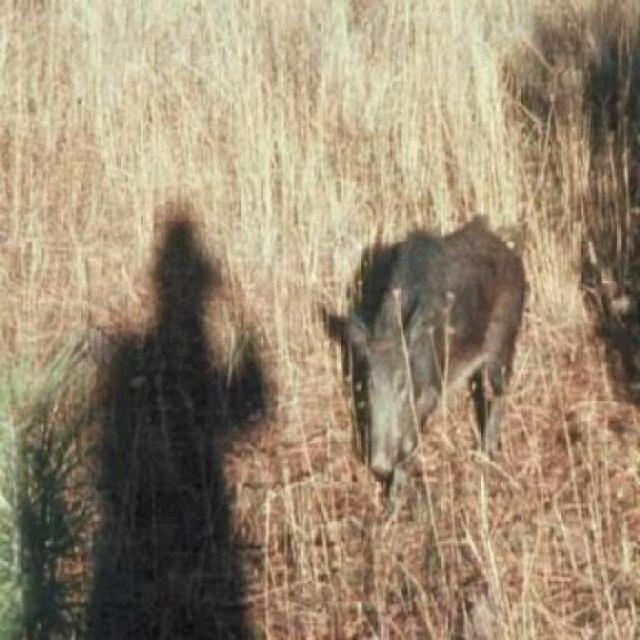pig: (283, 154, 626, 491)
